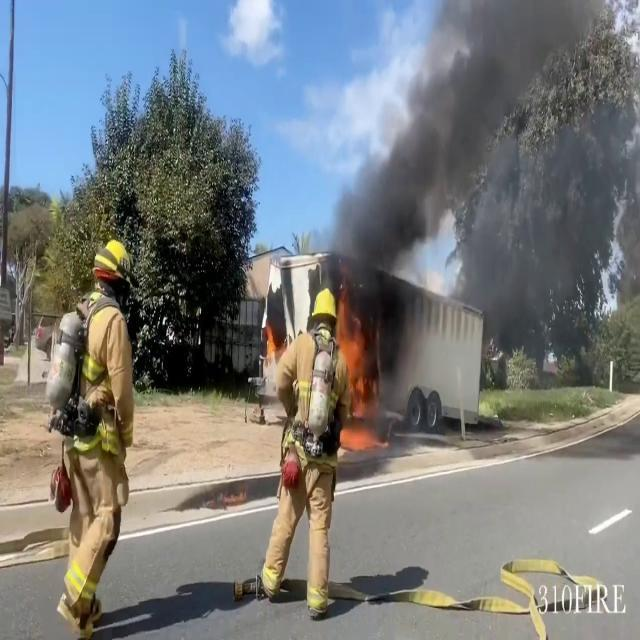Fire: (334, 300, 374, 423)
Smoke: (332, 0, 637, 364)
